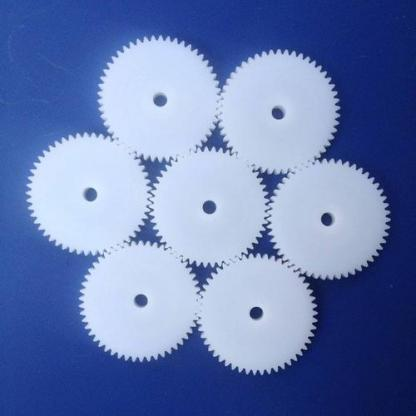FOD: (25, 131, 151, 258), (96, 34, 219, 164), (267, 155, 392, 282), (218, 48, 340, 176), (77, 242, 202, 366), (197, 253, 320, 378), (149, 149, 267, 269)
